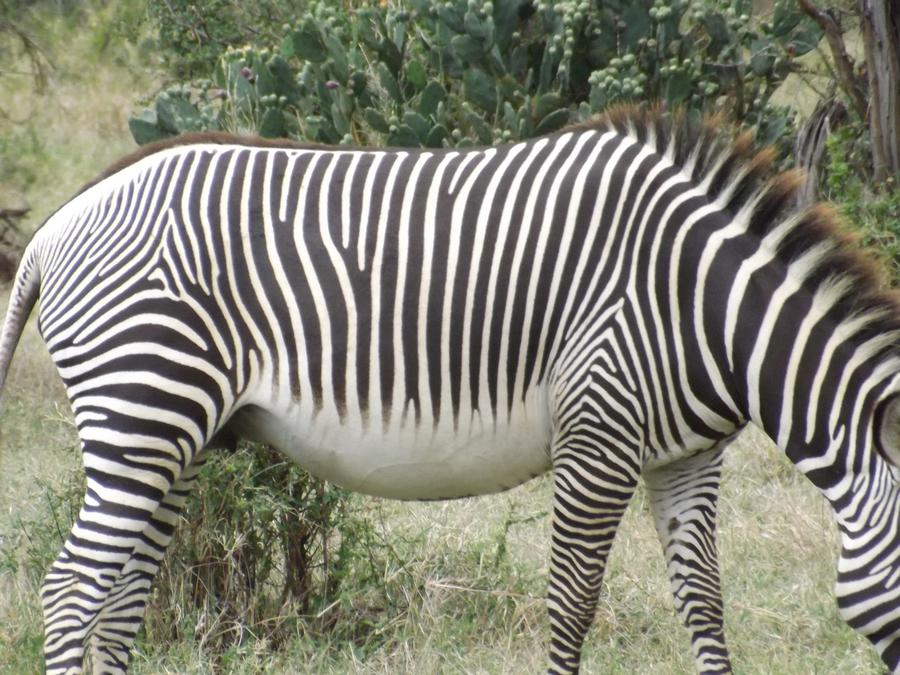zebra_grevys: (26, 121, 661, 469)
